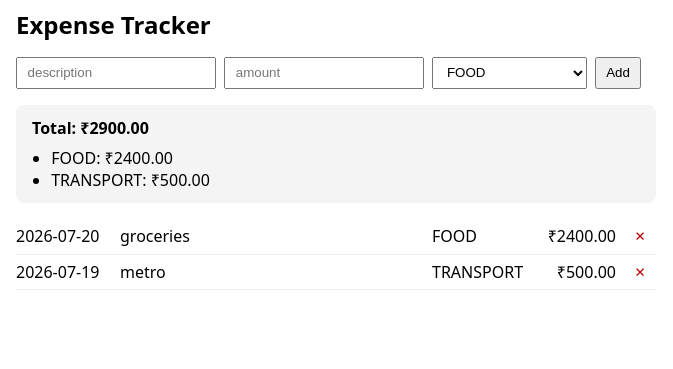
Test: Expense Tracker app › validates the form (positive amount, non-blank description)
Expected: the text "groceries" is shown, [120,225,190,247]
Type "bad" into the field labelled "description" at (116, 73), box [16,57,216,89]
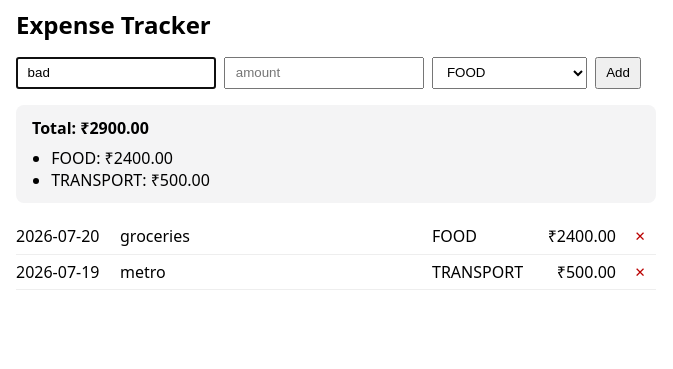
Type "-5" into the number field labelled "amount" at (324, 73), box [224,57,424,89]
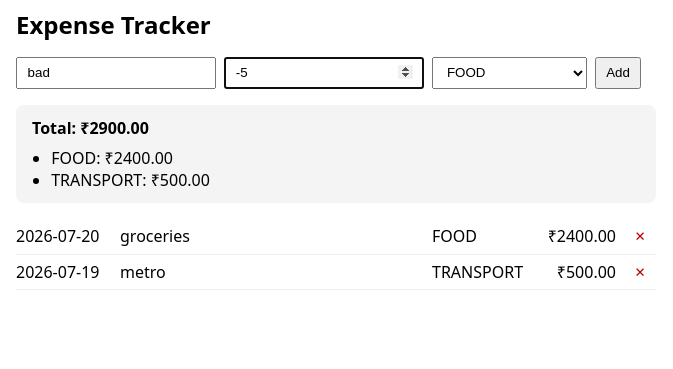
Click the button "Add" at (618, 73), box [595,57,642,89]
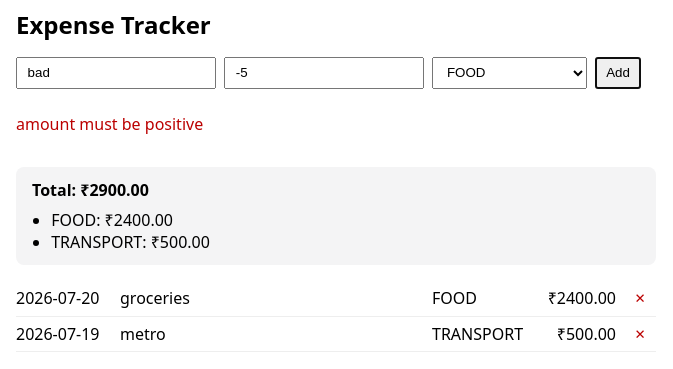
Result: the message reads "amount must be positive" at [16,113,203,135]
